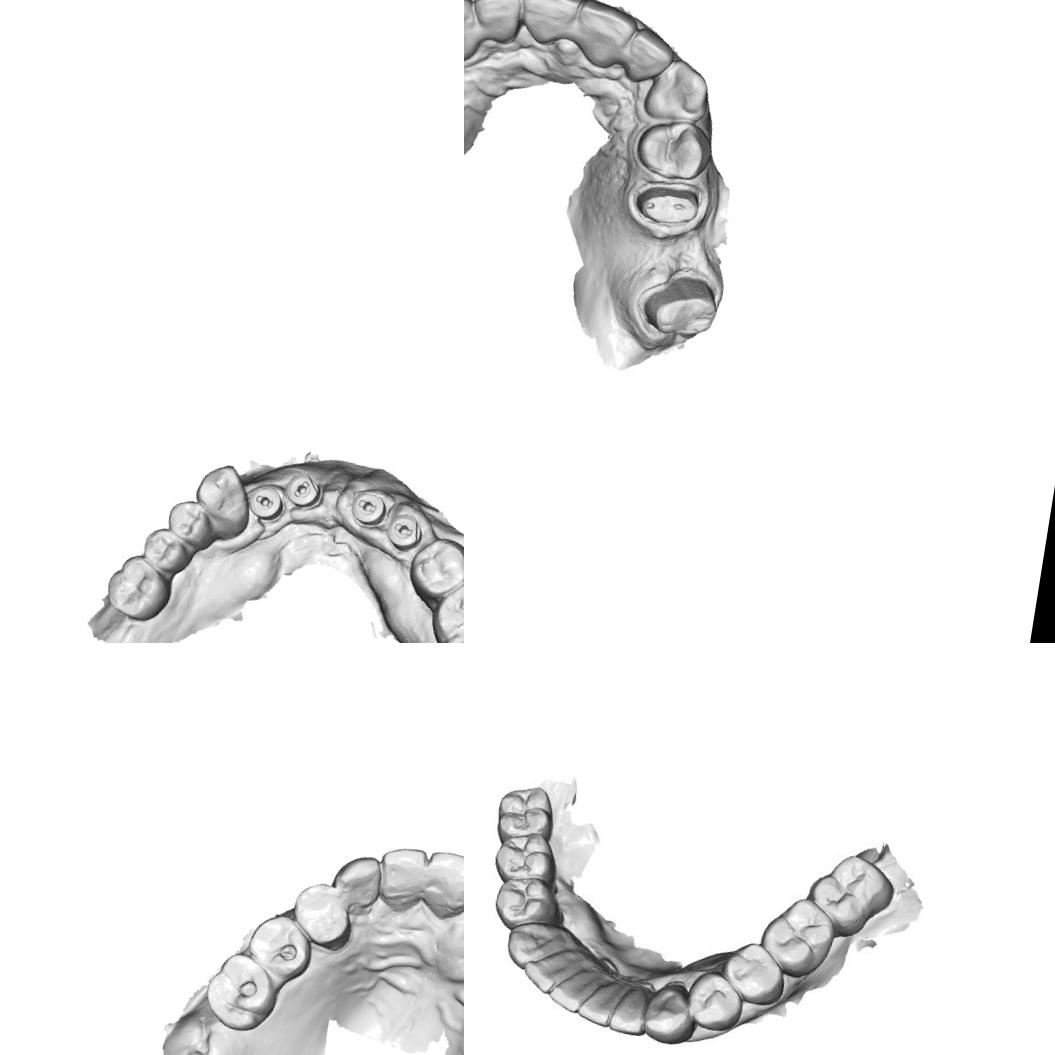canine: (641, 54, 717, 127), (188, 457, 256, 535), (501, 916, 580, 975), (641, 979, 697, 1048), (328, 850, 386, 914), (464, 0, 483, 67)
crown: (635, 264, 724, 344), (629, 178, 710, 234)
implant_minus: (346, 484, 390, 528), (246, 478, 288, 522), (385, 511, 423, 553), (283, 471, 324, 508)
incisor: (569, 0, 641, 73), (619, 22, 683, 92), (374, 842, 430, 916), (575, 956, 631, 1030), (512, 0, 589, 53), (521, 945, 589, 1002), (548, 954, 605, 1018), (419, 847, 464, 925), (608, 977, 656, 1038), (467, 0, 527, 48)
molar: (799, 848, 900, 944), (200, 948, 283, 1036), (756, 894, 839, 981), (101, 550, 176, 627), (490, 778, 560, 850), (425, 573, 464, 643)
premolar: (632, 111, 720, 187), (714, 936, 790, 1011), (286, 878, 359, 955), (243, 910, 318, 984), (489, 872, 564, 936), (403, 530, 464, 606), (682, 969, 746, 1036), (491, 830, 564, 888), (164, 497, 218, 548), (137, 524, 190, 574)
